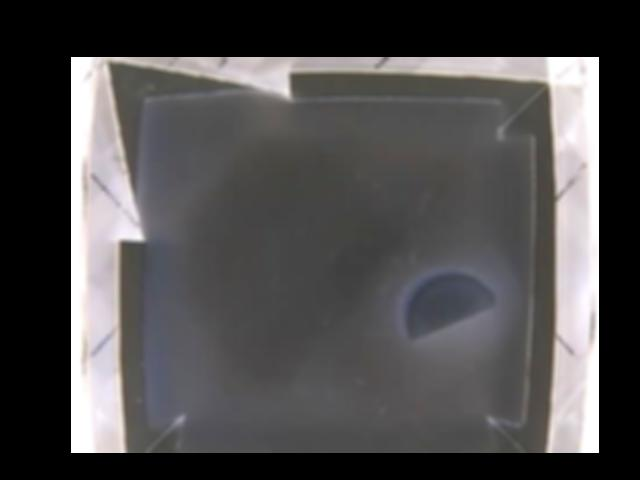Mooli: (401, 267, 506, 340)
